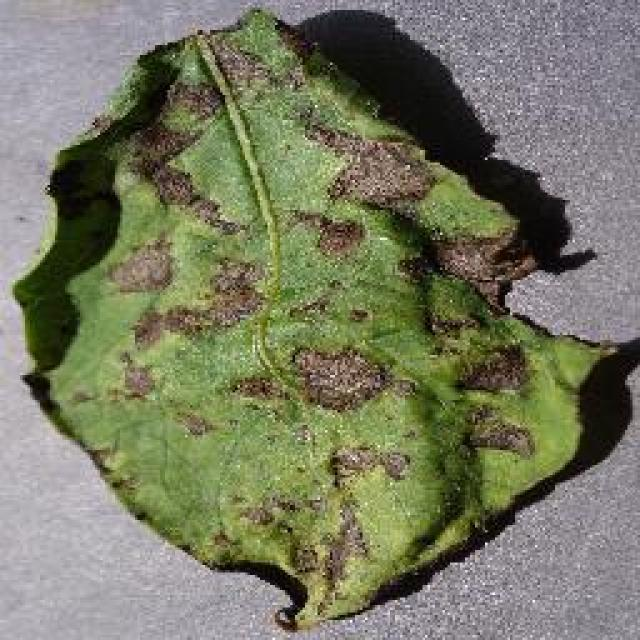Potato___Early_blight: (5, 4, 624, 634)
